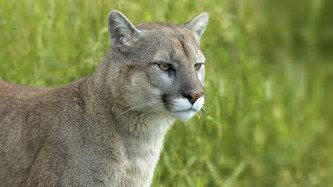Mountain Lion: (8, 13, 221, 185), (98, 9, 221, 125)
